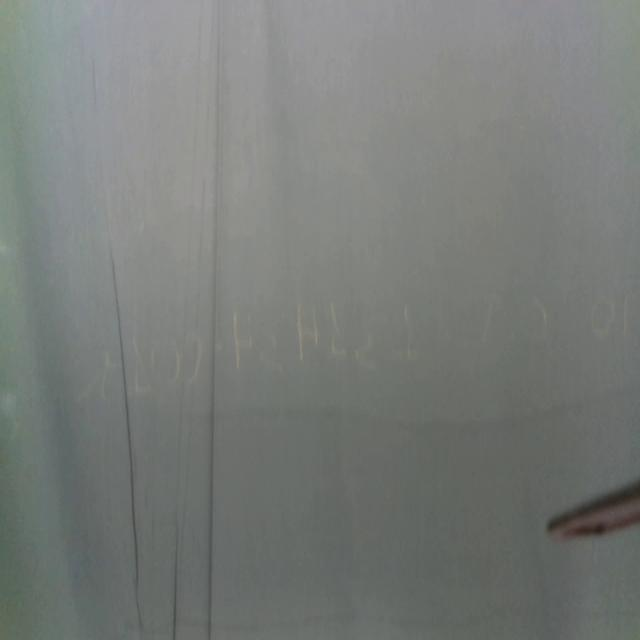color bleeding: (186, 383, 640, 447)
crease: (90, 54, 144, 640), (171, 0, 203, 639), (207, 0, 223, 640)
